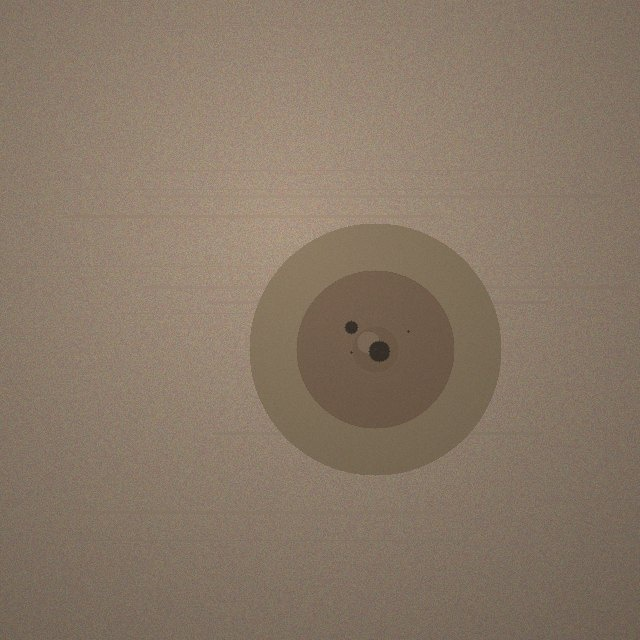shrinkage: (249, 223, 501, 475)
